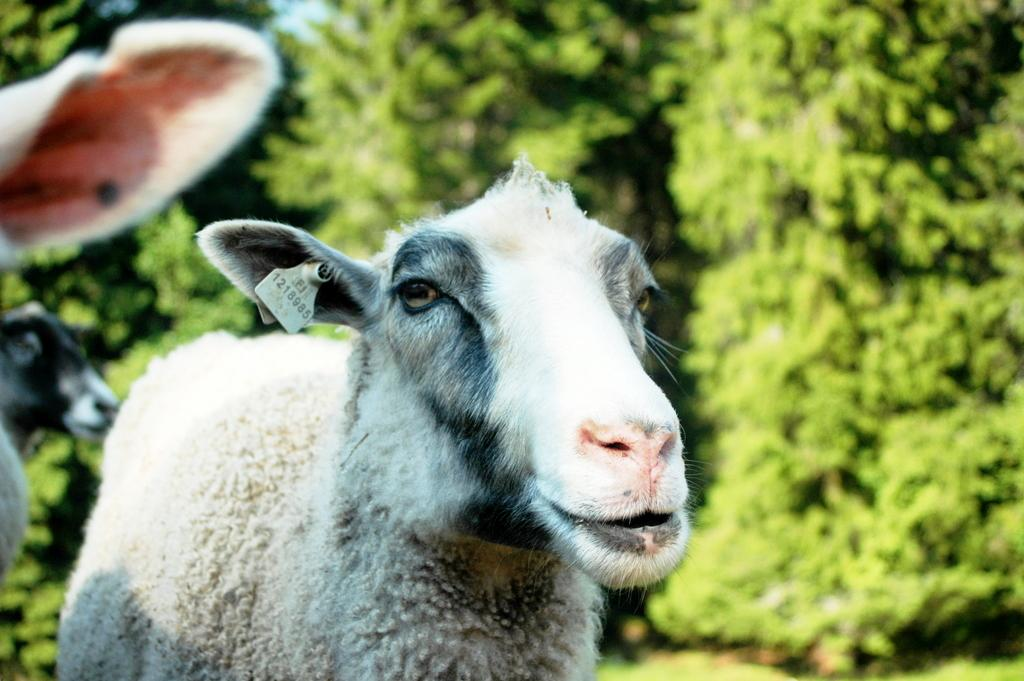Sheep: (53, 154, 707, 680)
